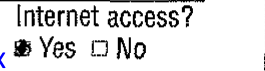NO: (89, 38, 111, 58)
YES: (11, 37, 33, 58)
